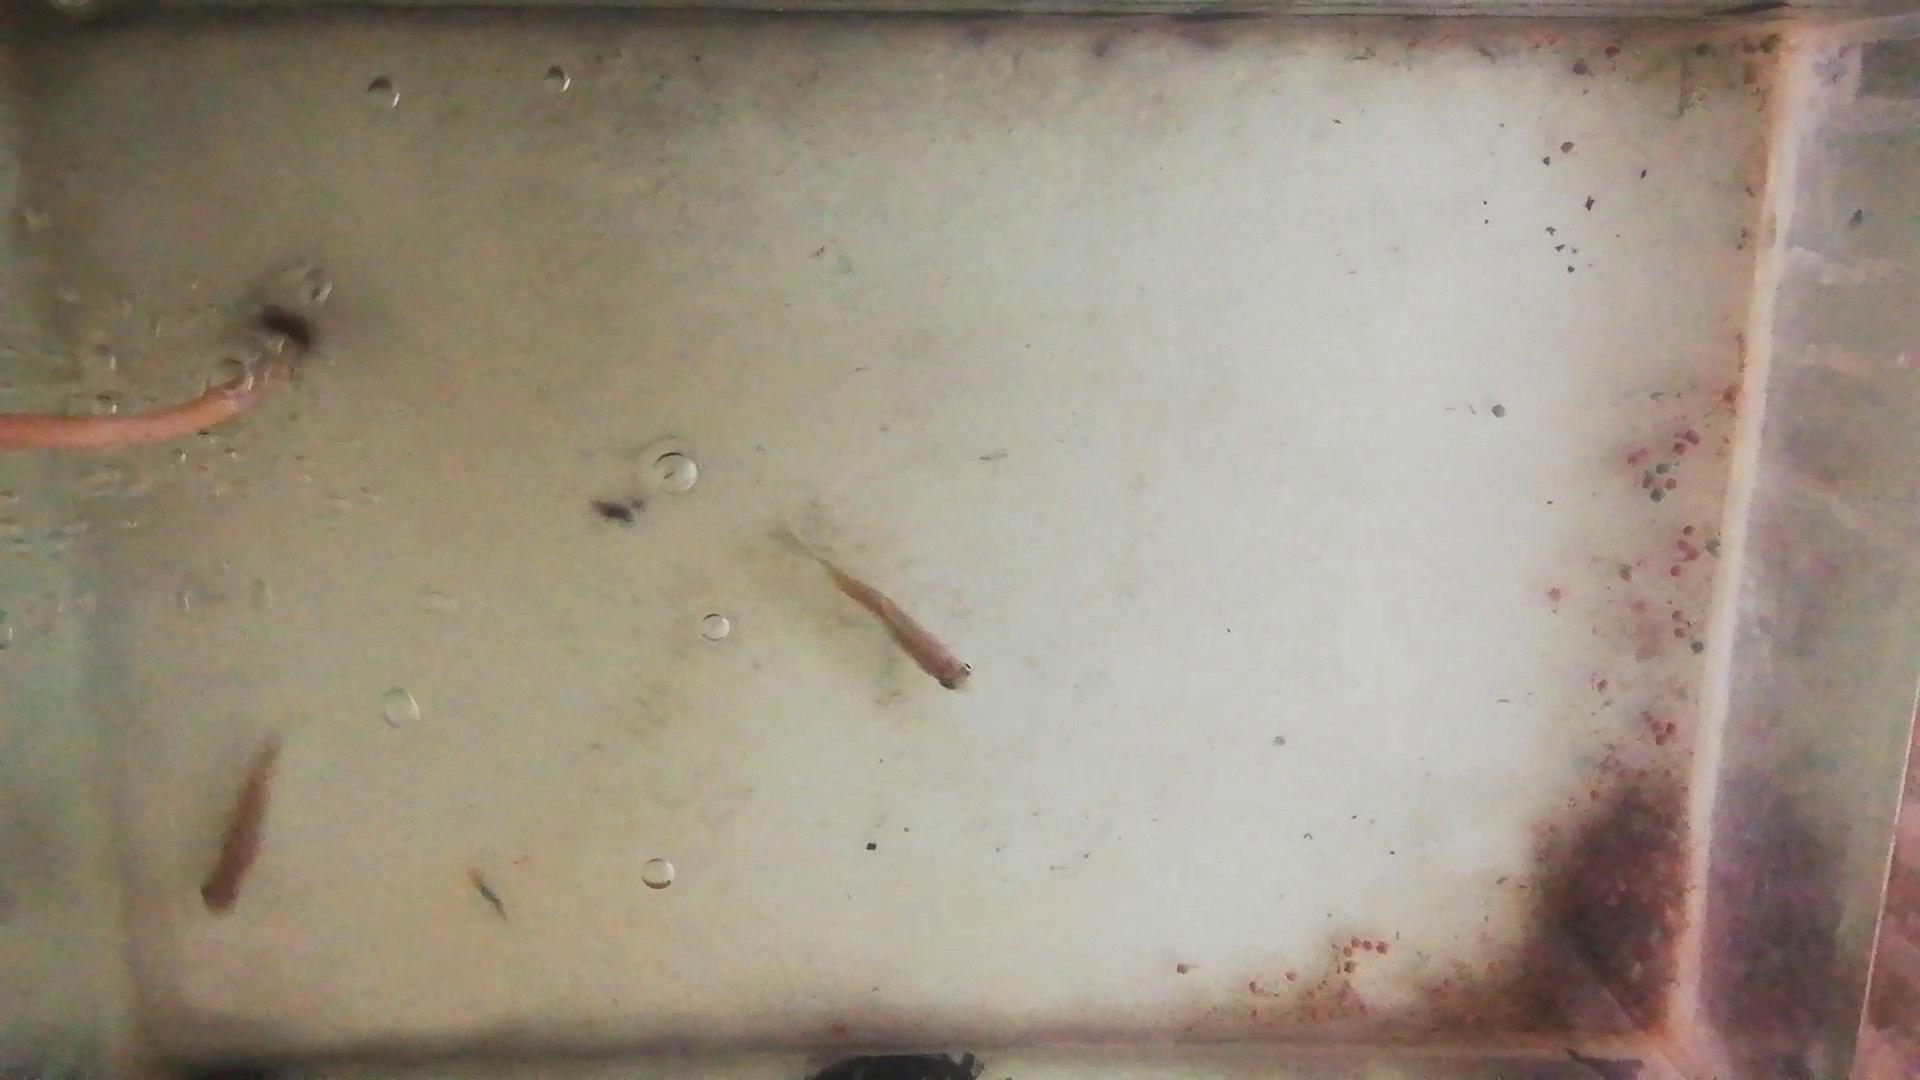fish: (814, 551, 975, 694), (198, 735, 281, 915)
